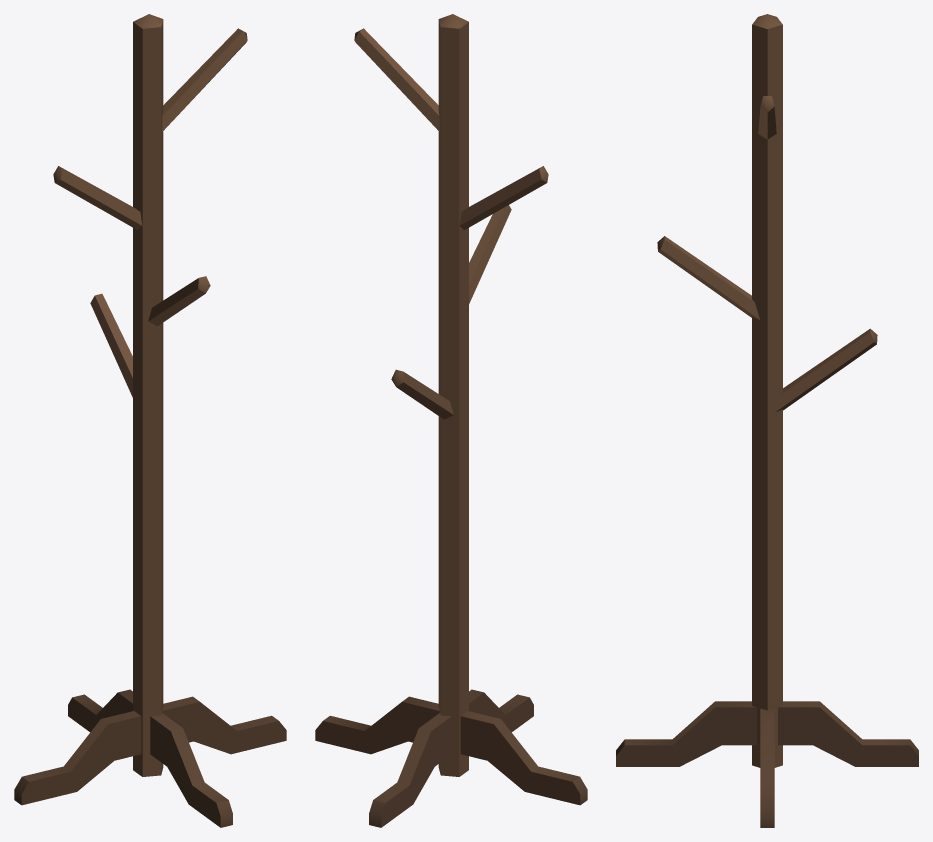
File: SM_Prop_CoatRack_01.obj
The picture shows the model from 3 angles, left to right: view 1: azimuth 30°, elevation 25°; view 2: azimuth 150°, elevation 25°; view 3: azimuth 270°, elevation 25°; orthographic projection.
Visible parts, largest first — view 1: SM_Prop_CoatRack_01_M_PolygonOffice_01_A; view 2: SM_Prop_CoatRack_01_M_PolygonOffice_01_A; view 3: SM_Prop_CoatRack_01_M_PolygonOffice_01_A.
Part boxes in pixels (x1,y1,x2,y2): SM_Prop_CoatRack_01_M_PolygonOffice_01_A: (14, 14, 286, 827); SM_Prop_CoatRack_01_M_PolygonOffice_01_A: (315, 14, 587, 827); SM_Prop_CoatRack_01_M_PolygonOffice_01_A: (616, 14, 918, 827).
Bounding box in the file's own units: 0.7408 × 2.02 × 0.7408.
